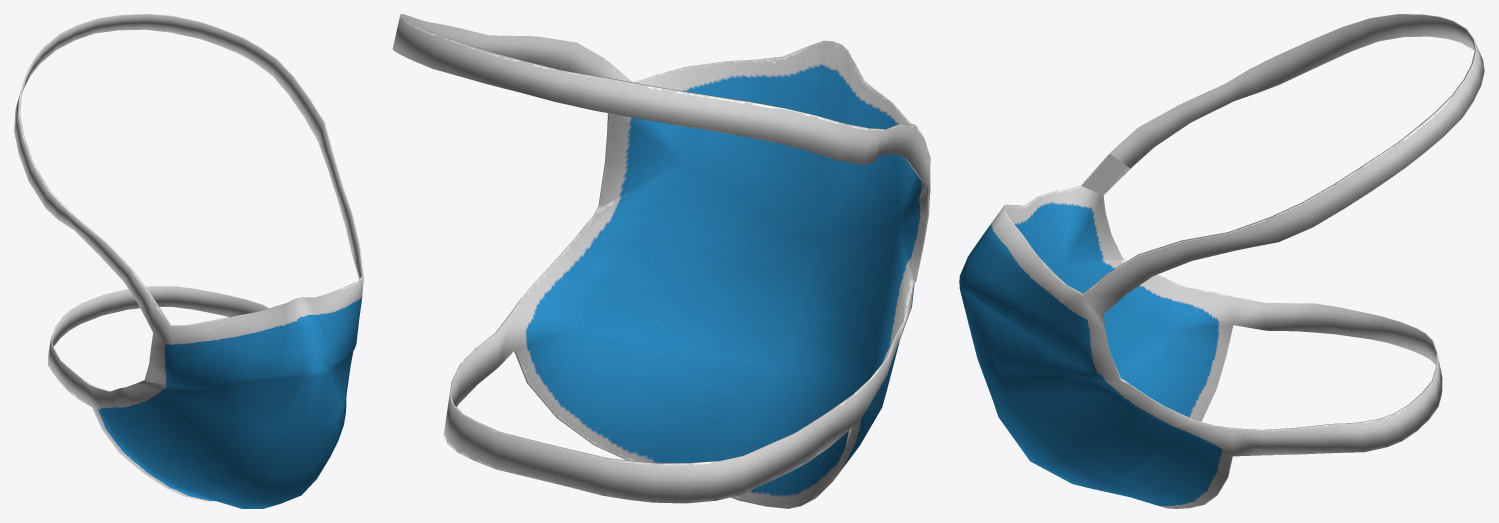
The model's file is surgical-mask.gltf.
The picture shows the model from 3 angles, left to right: view 1: azimuth 30°, elevation 25°; view 2: azimuth 150°, elevation 25°; view 3: azimuth 270°, elevation 25°; orthographic projection. The views are drawn at different scales.
Parts seen in each view (by area): view 1: MASK_; view 2: MASK_; view 3: MASK_.
Part boxes in pixels (box(x1,y1,x2,y2)): MASK_: box(14, 14, 363, 508); MASK_: box(392, 14, 930, 508); MASK_: box(959, 14, 1484, 508).
Bounding box in the file's own units: 16.28 × 21.46 × 22.68.
1 material, 1 textured.
